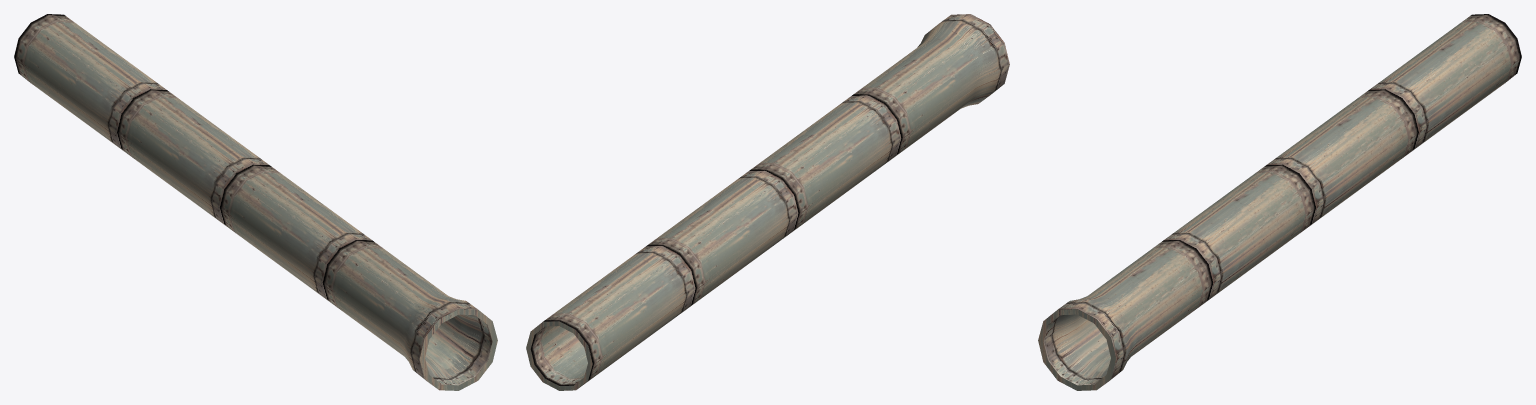
File: pipe01.fbx
3 views of the same model, side by side, from view 1: azimuth 30°, elevation 25°; view 2: azimuth 150°, elevation 25°; view 3: azimuth 330°, elevation 25° (orthographic).
Parts seen in each view (by area): view 1: Mesh Object; view 2: Mesh Object; view 3: Mesh Object.
Boxes of the visible parts, x1,y1,x2,y2 form: Mesh Object: (14,14,497,390); Mesh Object: (526,14,1009,390); Mesh Object: (1038,14,1521,390).
Size of the model in its own units: 1.15 by 1.15 by 10.43.
